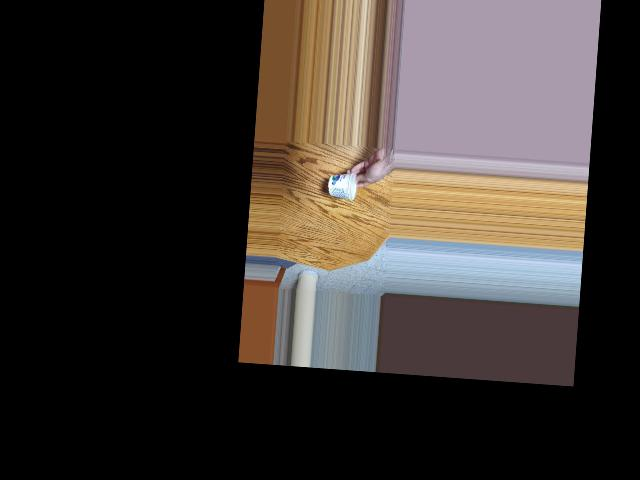cotage: (328, 168, 364, 205)
